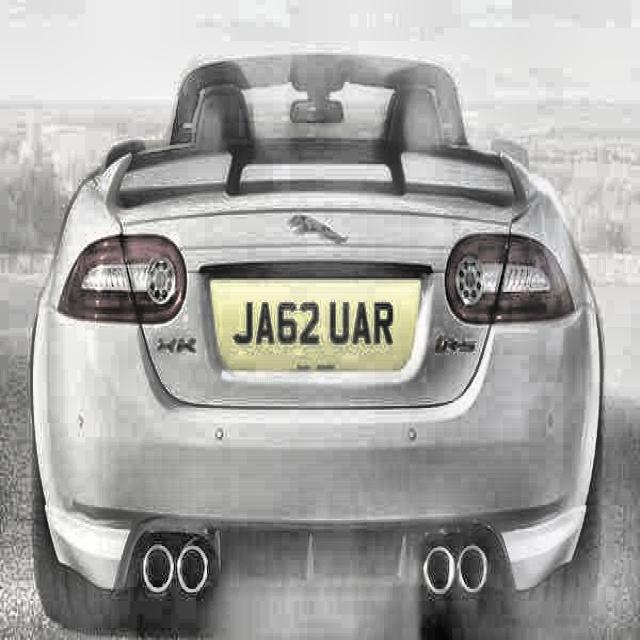license_plate: (212, 276, 417, 369)
